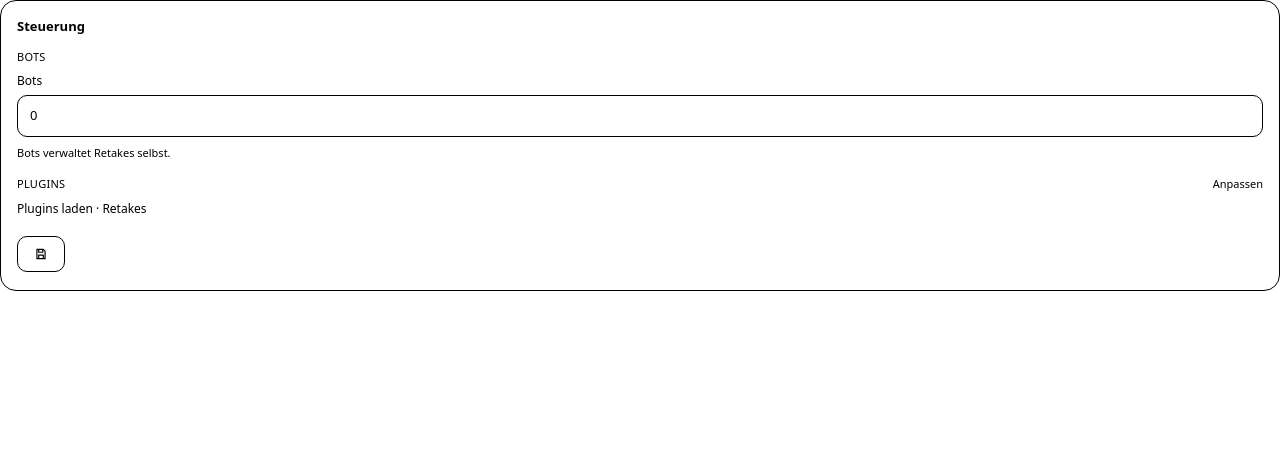
Test case: LiveControlsCard › Plugins (Fundpunkt 361) › zeigt den Abschnitt eingeklappt mit Kurzzeile und klappt mit „Anpassen“ auf
The image size is (1280, 462).
Expected: the text "Plugins laden · Retakes" is shown, [17, 200, 147, 217]
Expected: the dropdown labelled "Spielmodus-Plugin" is not shown
Click the button "Anpassen" at [1238, 184], box [1213, 176, 1263, 192]
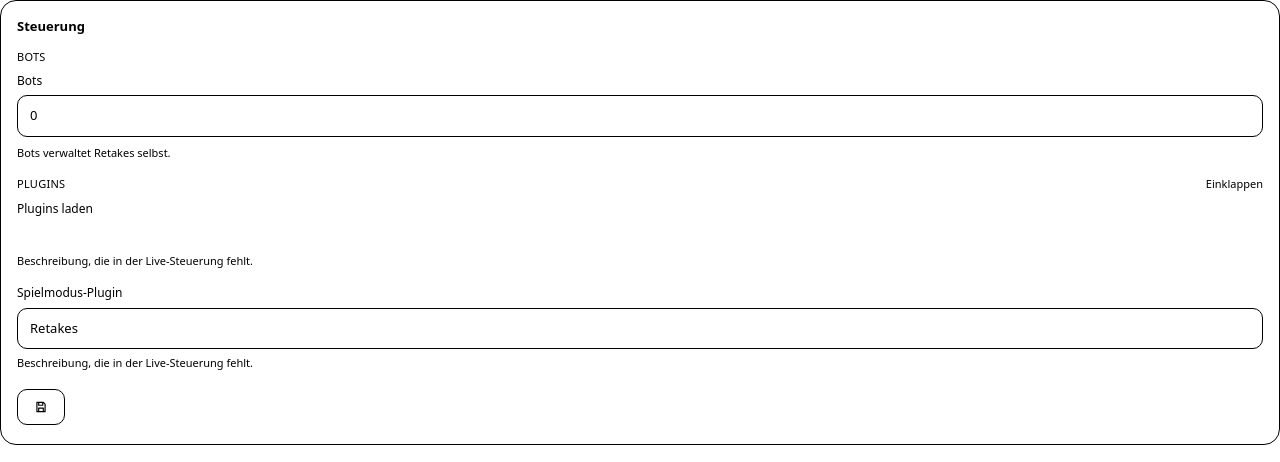
Expected: the dropdown labelled "Spielmodus-Plugin" shows "Retakes", [17, 308, 1263, 349]
